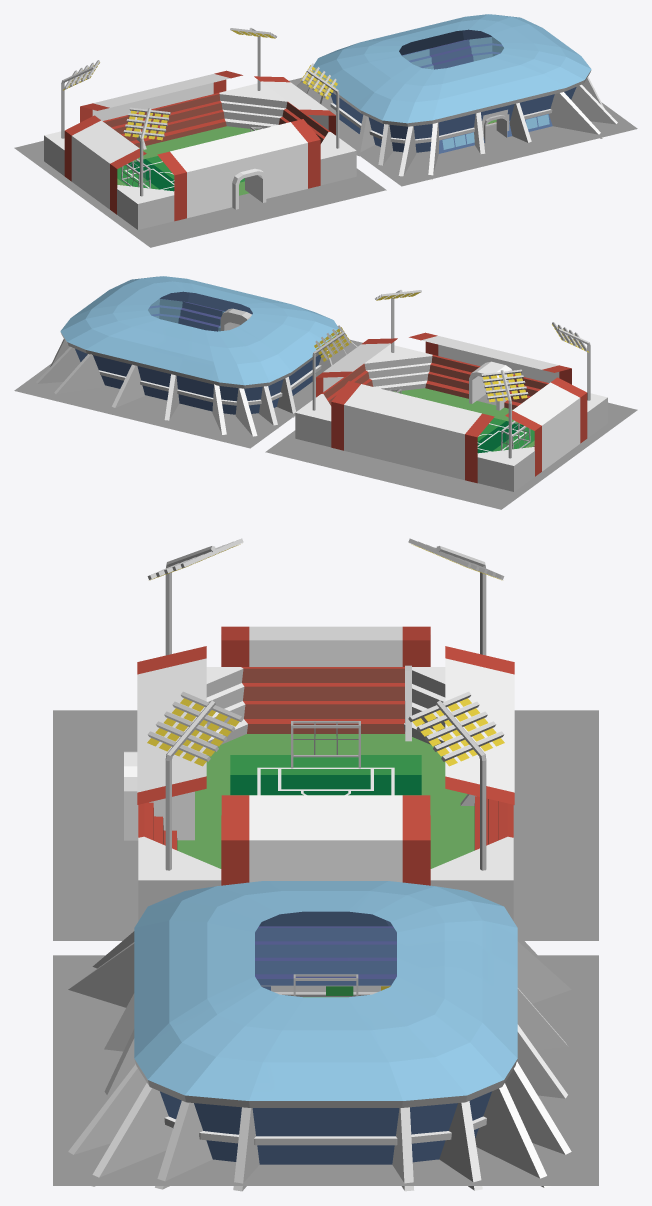
File: Grounds.fbx
The picture shows the model from 3 angles, top to bottom: view 1: azimuth 30°, elevation 25°; view 2: azimuth 150°, elevation 25°; view 3: azimuth 270°, elevation 25°; orthographic projection. The views are drawn at different scales.
Parts seen in each view (by area): view 1: Ground_3, Ground_1; view 2: Ground_3, Ground_1; view 3: Ground_1, Ground_3.
Part boxes in pixels (x1,y1,x2,y2): Ground_3: (14,28,386,247); Ground_1: (289,14,637,186); Ground_3: (265,290,637,509); Ground_1: (14,276,362,448); Ground_1: (53,881,598,1191); Ground_3: (53,538,598,940).
Bounding box in the file's own units: 33 × 6.8 × 16.
Materials: 1 (1 with a texture image).
